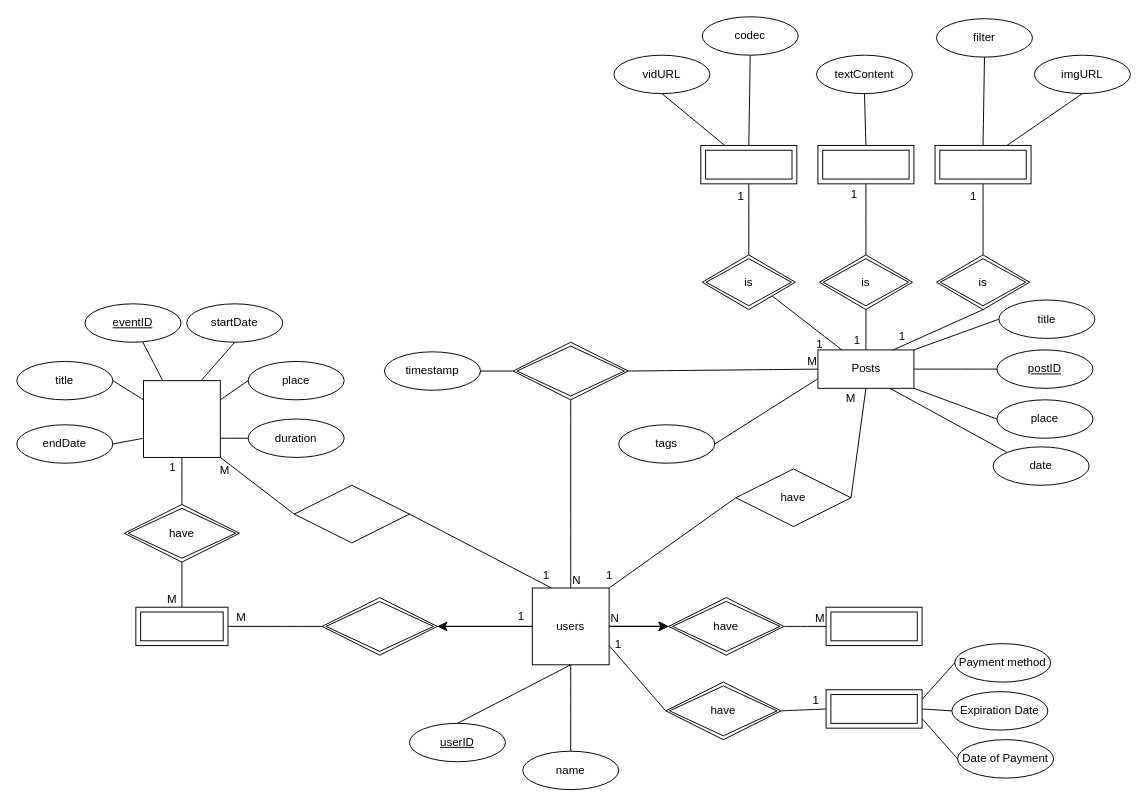
This 1147x806 diagram has some shape labels left out. Each missing label, with the centre of its shape:
"are" goes at (x=379, y=626).
"attendees" goes at (x=181, y=626).
"create" goes at (x=351, y=513).
"events" goes at (x=181, y=418).
"friendships" goes at (x=873, y=626).
"Image posts" goes at (x=982, y=164).
"like" goes at (x=570, y=370).
"subscription" goes at (x=873, y=708).
"Text posts" goes at (x=865, y=164).
"Video posts" goes at (x=748, y=164).
